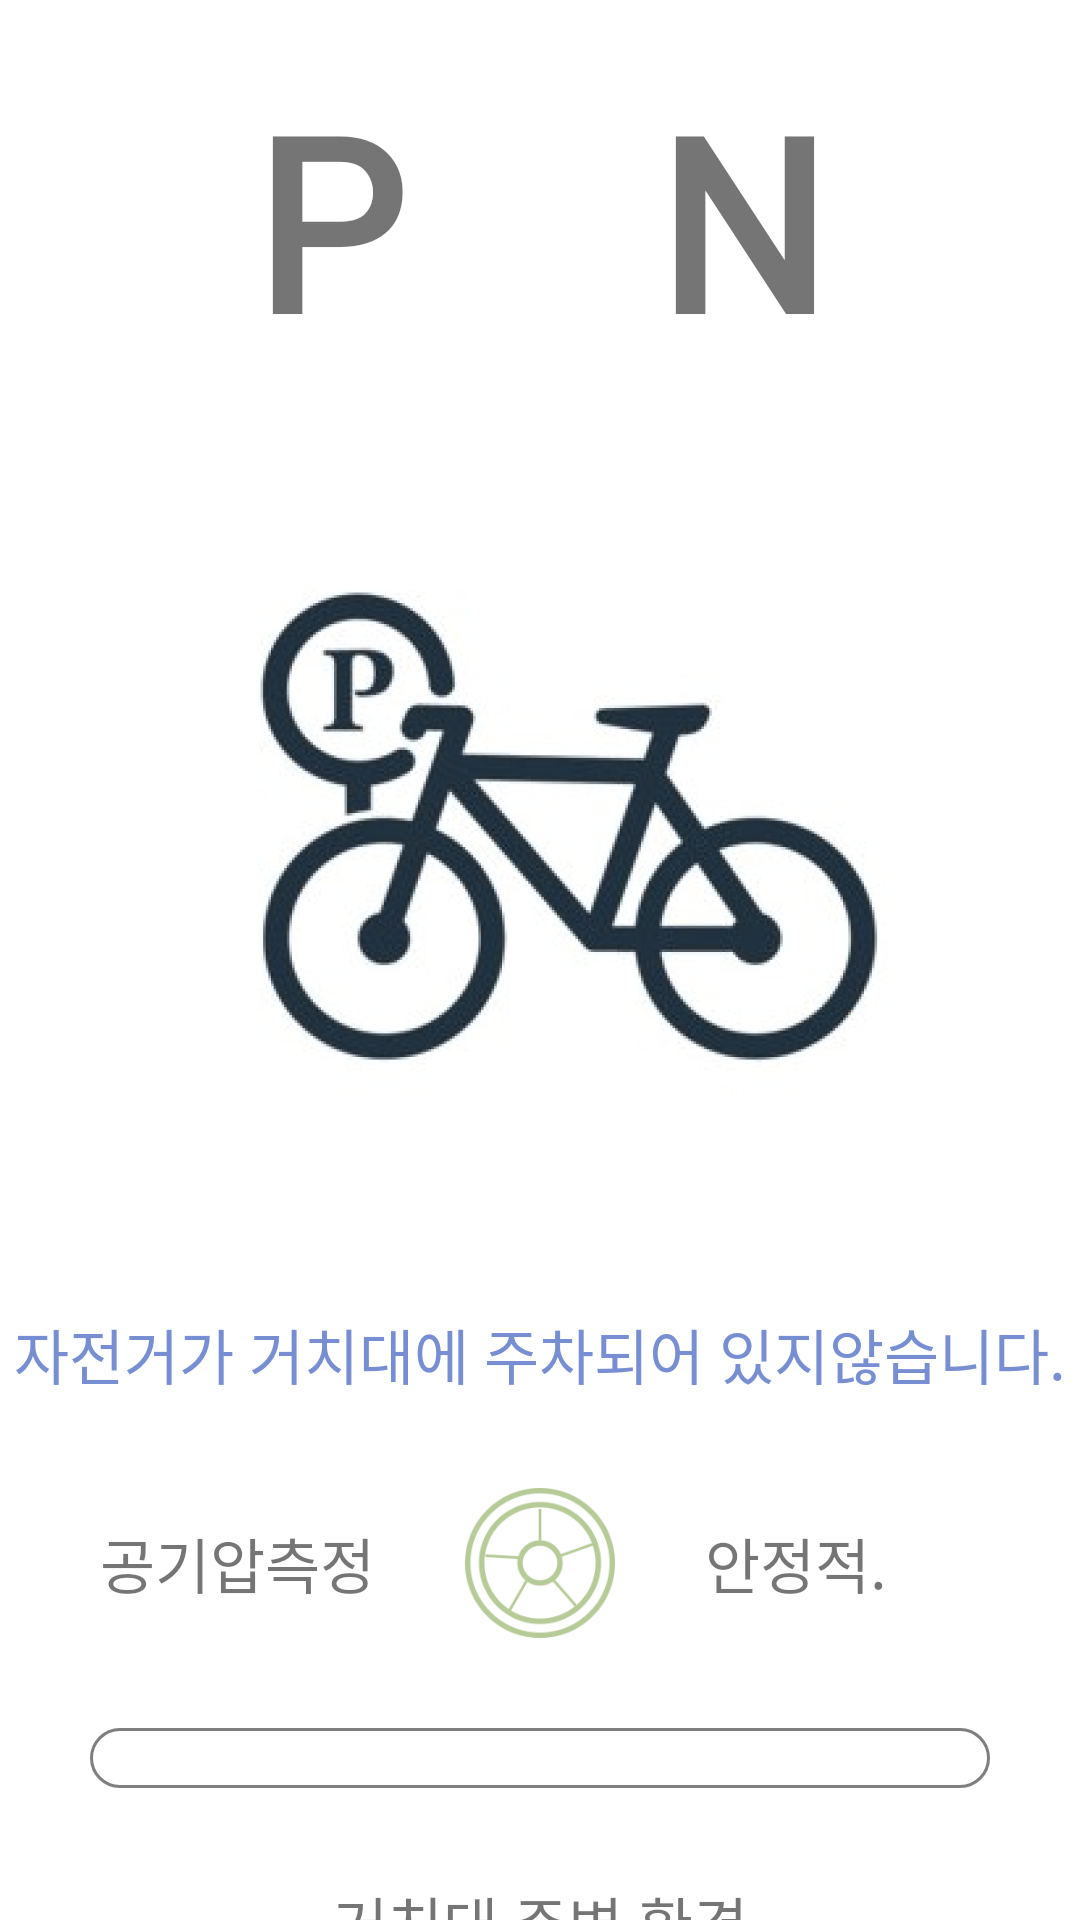

Where icons sit on this 1080px×1920px app screen, as bbox(x1, y1, x2, y2):
parking wheel: bbox(465, 1488, 615, 1638)
